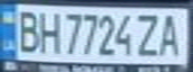2: (97, 10, 118, 56)
4: (112, 10, 136, 57)
7: (78, 10, 100, 56), (60, 9, 81, 55)
A: (154, 10, 187, 57)
B: (12, 7, 42, 54)
H: (36, 8, 63, 54)
Z: (133, 10, 163, 58)
